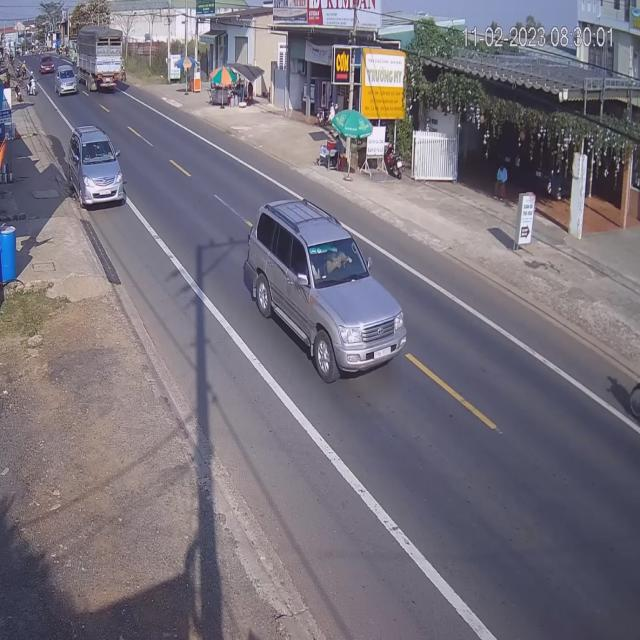car: (251, 196, 412, 379), (65, 128, 127, 211), (58, 64, 79, 97), (40, 55, 54, 76)
truck: (75, 25, 123, 87)
